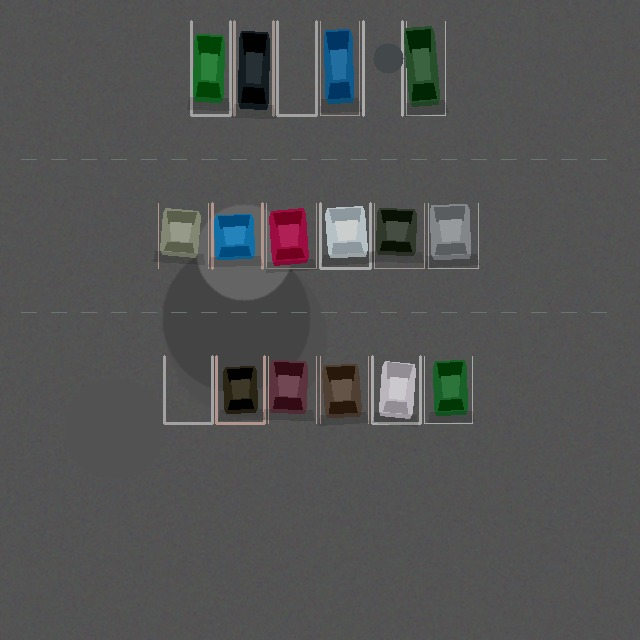space-empty: (277, 21, 316, 115), (363, 21, 402, 115), (164, 356, 212, 423)
space-occupied: (191, 21, 230, 115), (234, 21, 273, 115), (320, 21, 359, 115), (406, 21, 445, 115), (158, 203, 208, 268), (212, 203, 262, 268), (266, 203, 316, 268), (320, 203, 370, 268), (374, 203, 424, 268), (428, 203, 478, 268), (216, 356, 264, 423), (268, 356, 316, 423), (320, 356, 368, 423), (372, 356, 420, 423), (424, 356, 472, 423)
